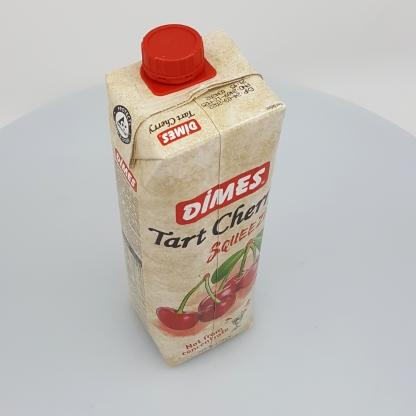DIMES--------1000ML: (105, 24, 286, 367)
